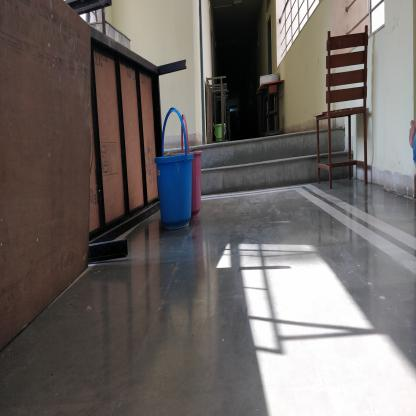stairs: (206, 140, 317, 191)
